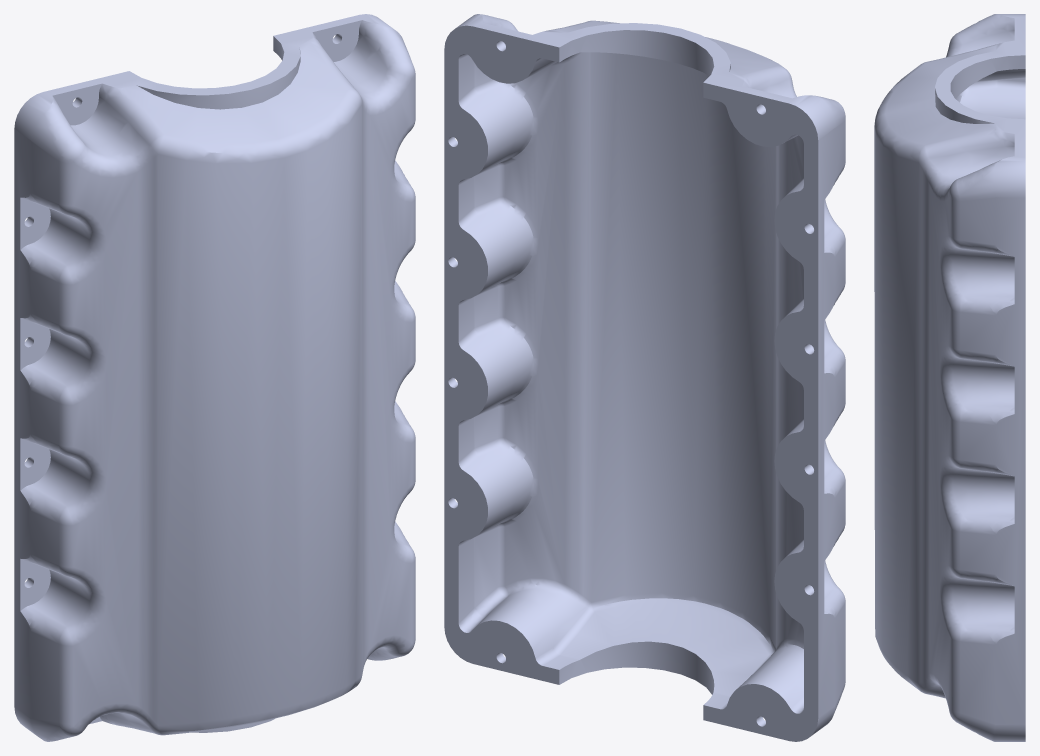
Rendered from carter.fbx.
3 renders of one model, left to right at view 1: azimuth 30°, elevation 25°; view 2: azimuth 150°, elevation 25°; view 3: azimuth 270°, elevation 25°, orthographic. The views are drawn at different scales.
Parts seen in each view (by area): view 1: oil_pan.; view 2: oil_pan.; view 3: oil_pan..
Boxes of the visible parts, box(x1,y1,x2,y2) form: oil_pan.: box(14, 14, 415, 741); oil_pan.: box(444, 14, 845, 741); oil_pan.: box(874, 14, 1025, 741).
Bounding box in the file's own units: 33.02 × 53.8 × 12.7.
